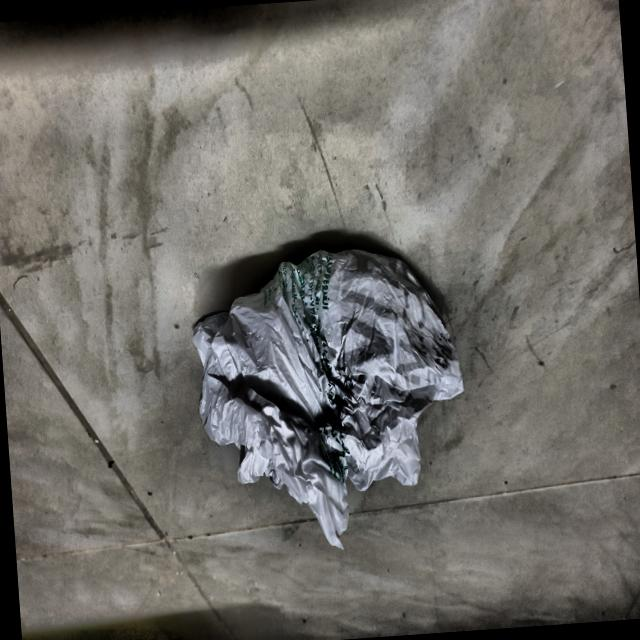plastic bag: (178, 224, 484, 571)
